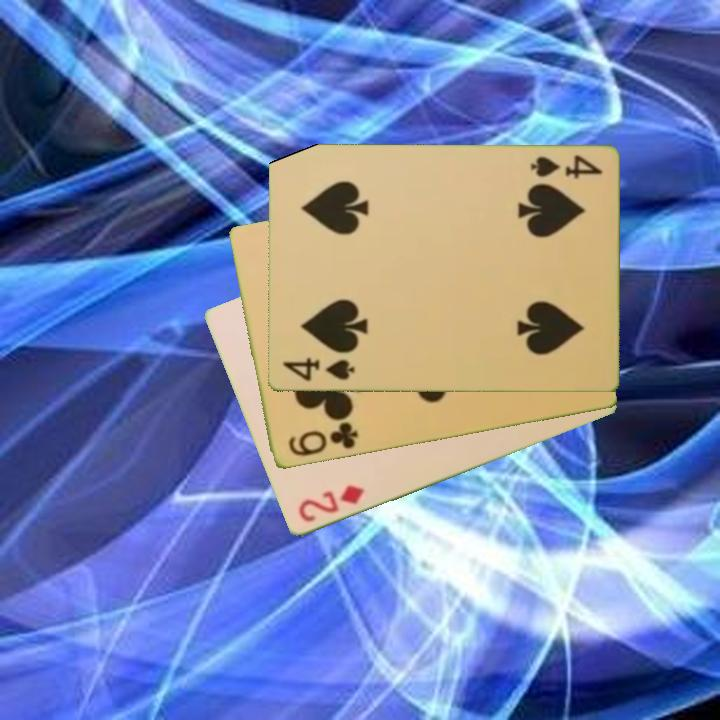2d: (294, 481, 367, 526)
4s: (526, 151, 605, 182), (278, 355, 357, 385)
6c: (284, 419, 361, 460)
